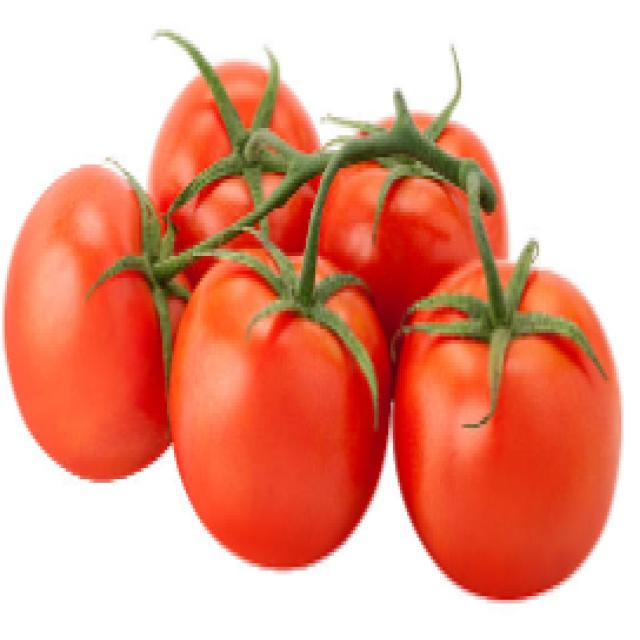Tomato: (406, 248, 623, 585), (183, 232, 382, 566)
